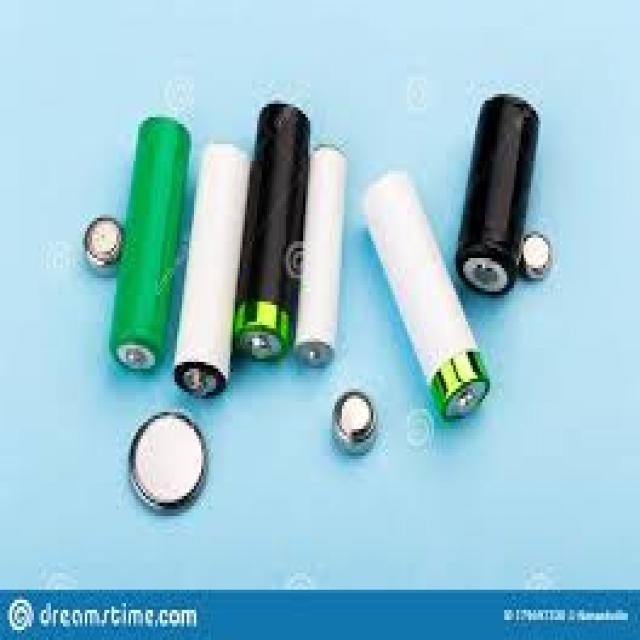non-organic waste: (363, 165, 496, 424), (230, 94, 310, 362), (171, 142, 251, 396), (114, 113, 189, 371), (456, 93, 542, 302)
